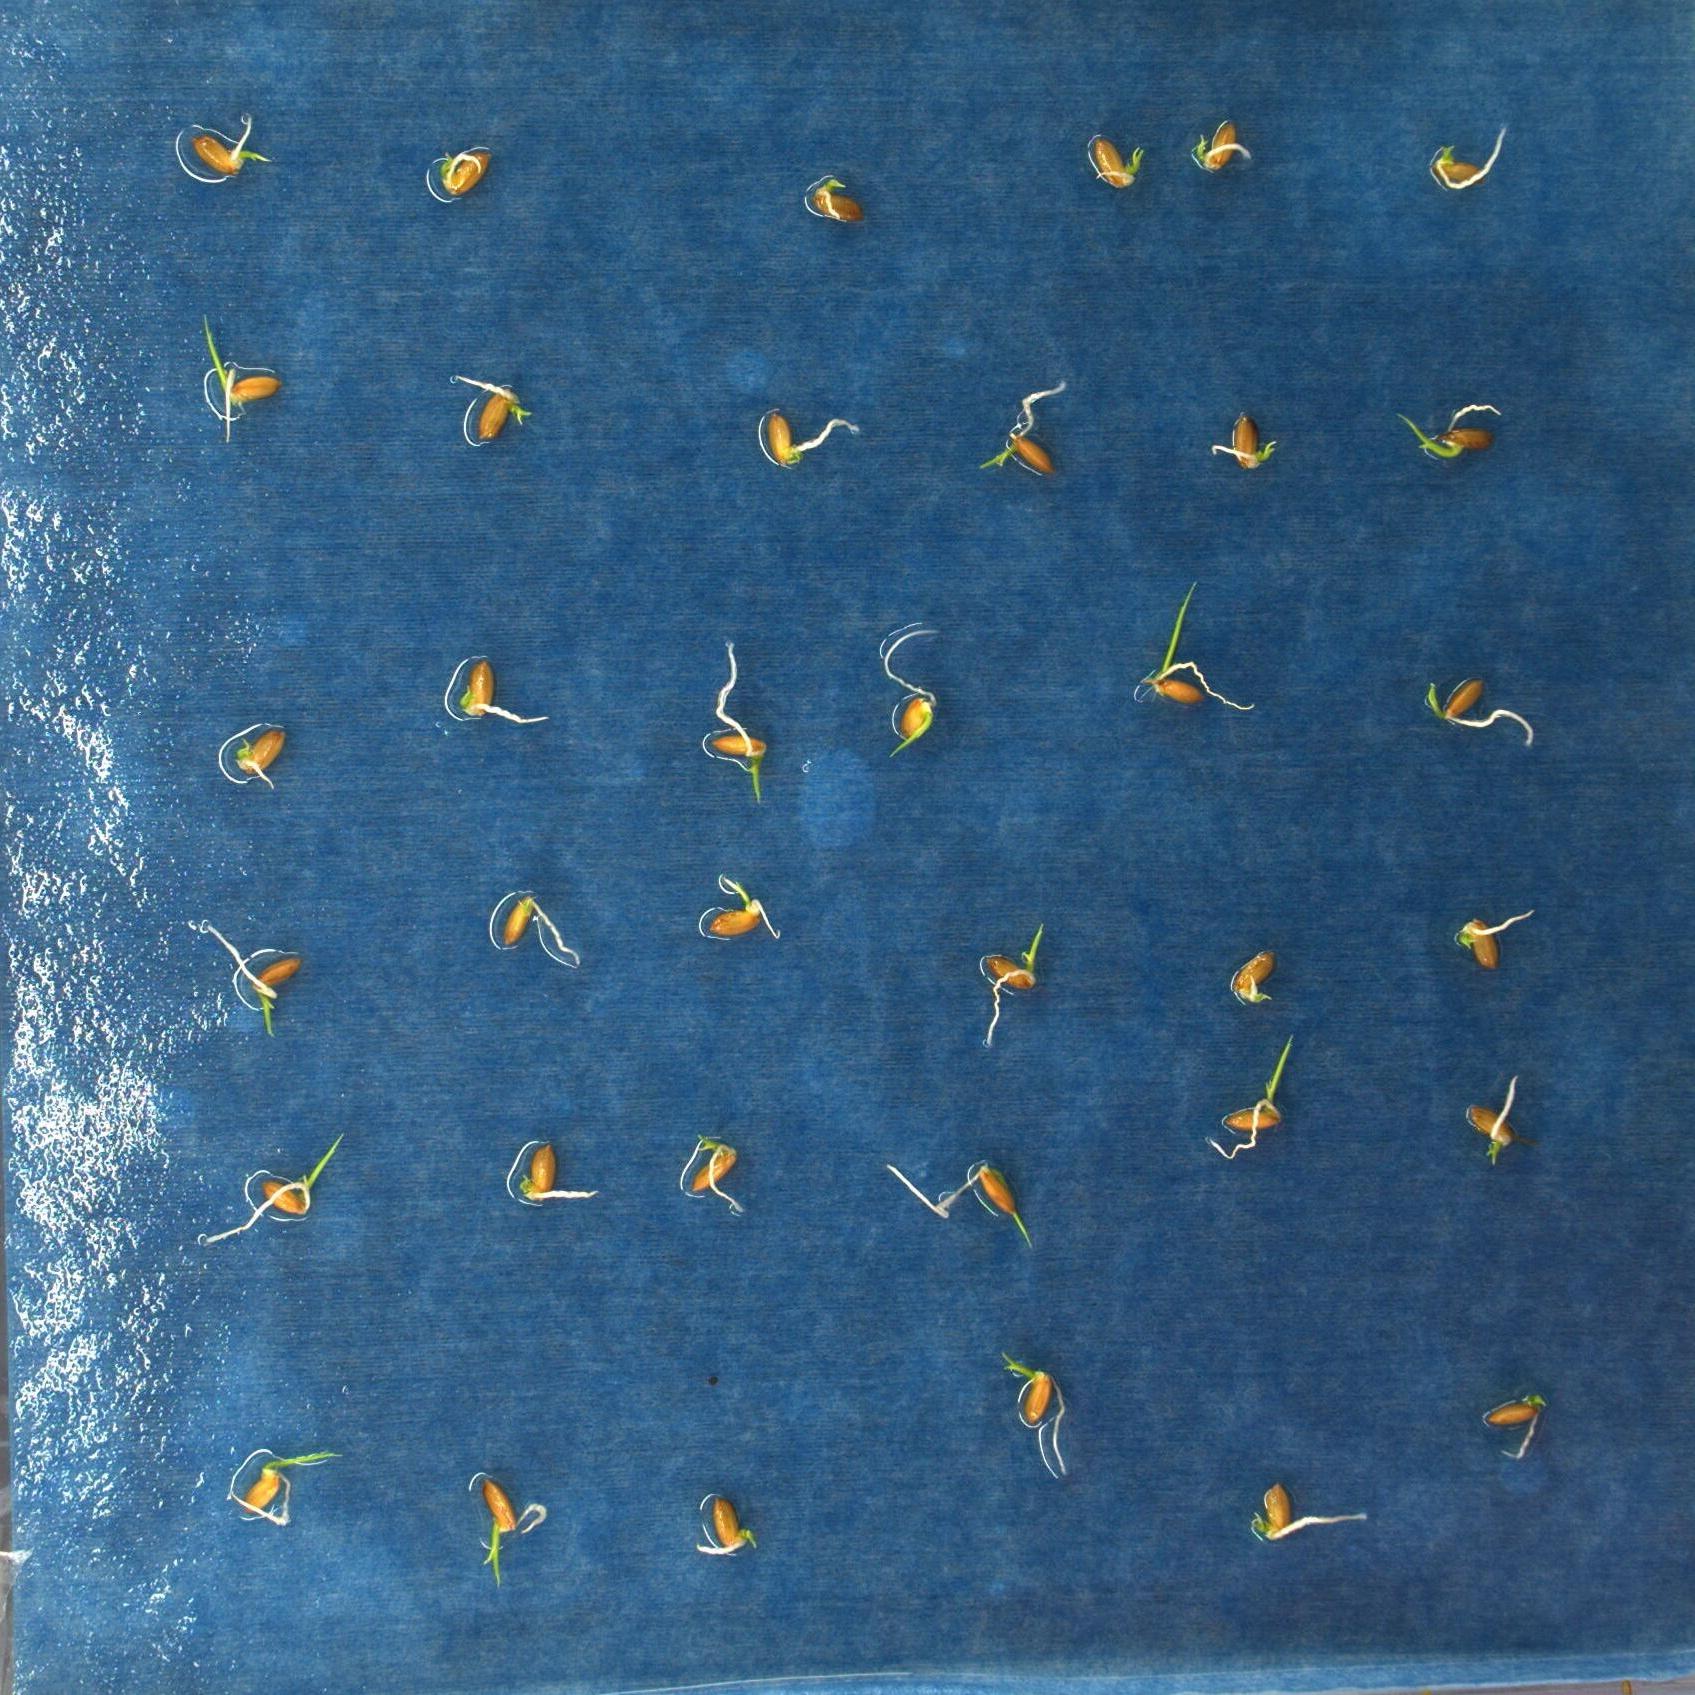not sprout: (750, 400, 869, 470), (494, 882, 581, 976), (455, 653, 549, 737), (1426, 113, 1515, 199), (453, 359, 531, 447), (506, 1136, 607, 1201), (1450, 900, 1541, 972), (692, 1492, 764, 1572), (220, 719, 290, 795), (1482, 1385, 1538, 1467), (804, 171, 869, 227), (424, 138, 489, 192)
sprout: (197, 1121, 355, 1254), (1127, 573, 1257, 722), (879, 1150, 1037, 1260), (689, 633, 778, 812), (1197, 1029, 1302, 1170), (220, 1436, 351, 1538), (189, 307, 284, 439), (877, 616, 958, 770), (200, 930, 306, 1042), (998, 1343, 1080, 1485), (466, 1467, 549, 1600), (967, 376, 1069, 483), (972, 924, 1051, 1055), (1417, 674, 1537, 750), (1236, 1479, 1371, 1544), (180, 101, 278, 183), (1397, 396, 1503, 463), (697, 865, 781, 948), (1465, 1066, 1527, 1173), (680, 1127, 747, 1220), (1201, 405, 1281, 478), (1076, 118, 1146, 200), (1194, 113, 1253, 179), (1226, 947, 1277, 1010)
